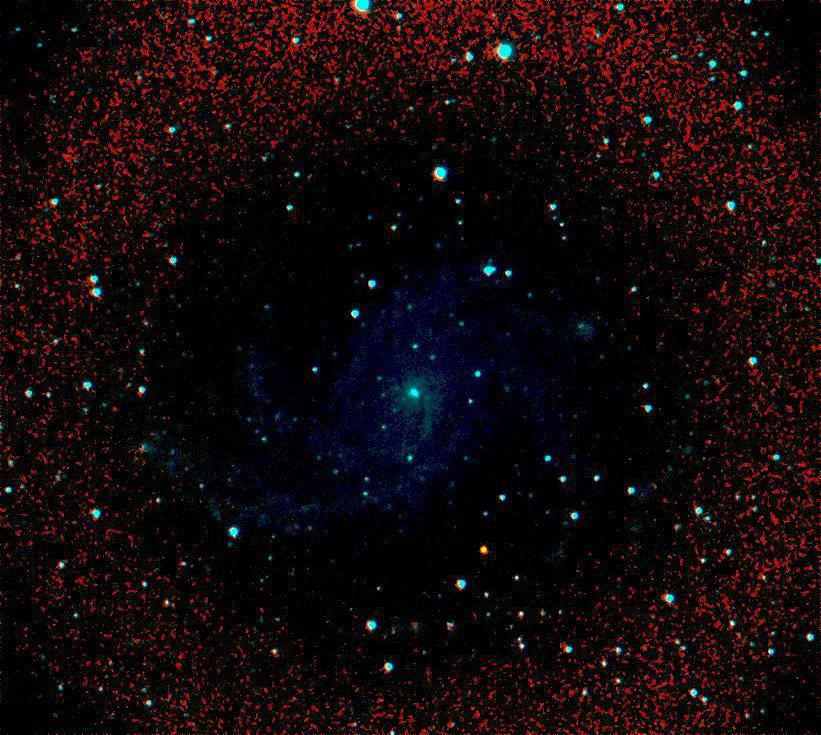star: (466, 537, 496, 567)
